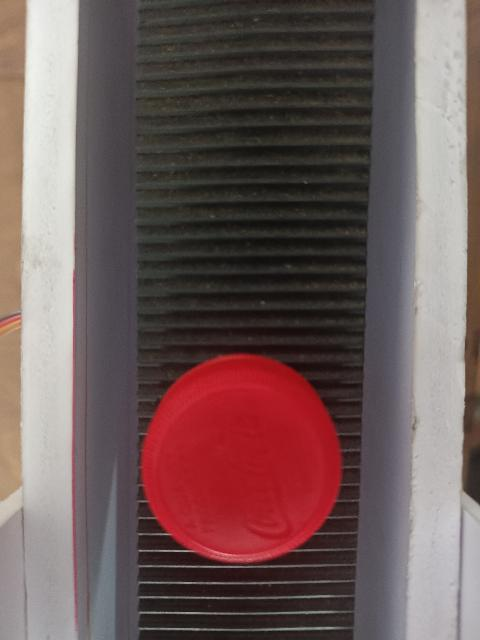bottlecap: (142, 350, 340, 564)
